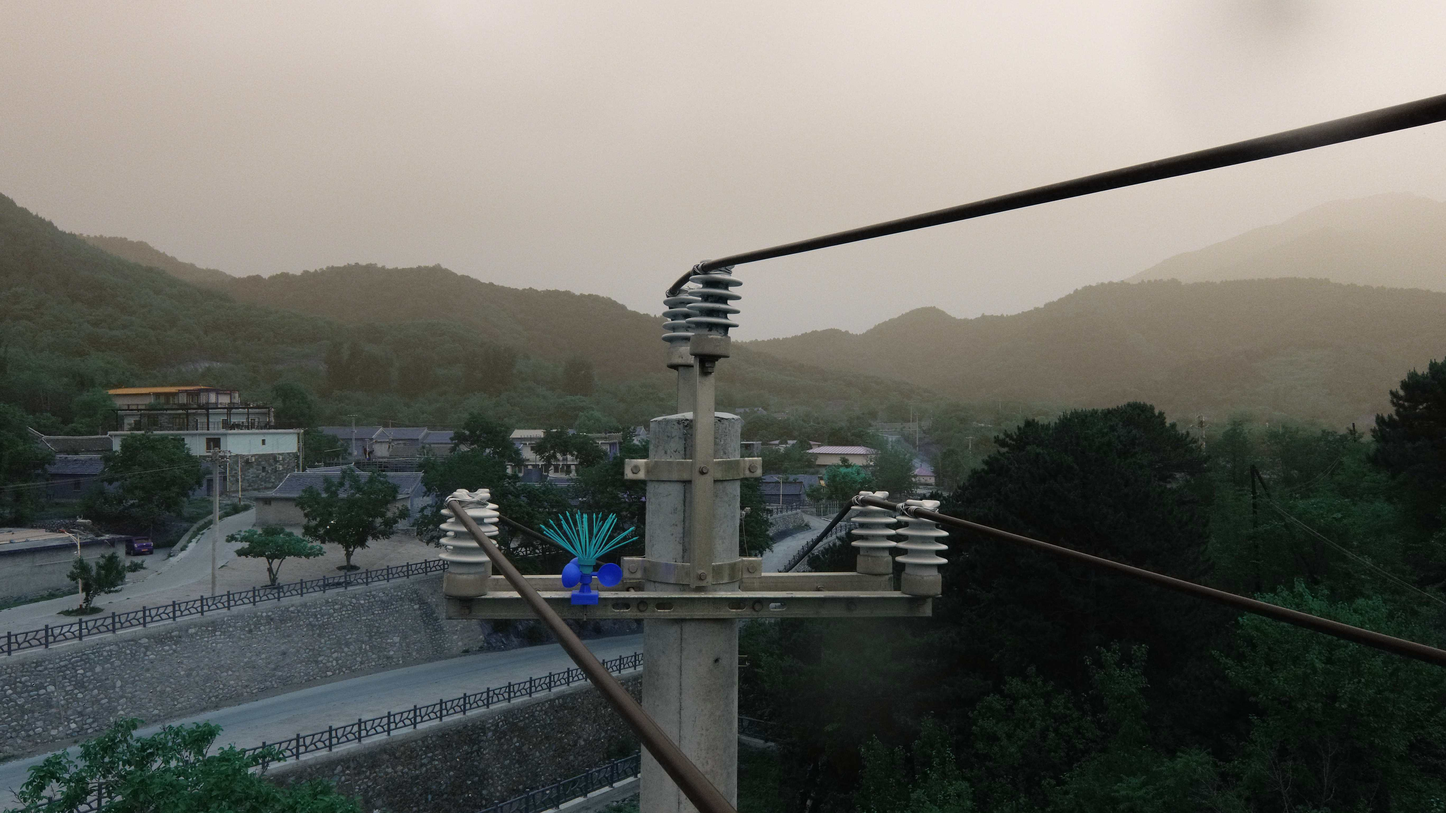severe_soiling_no_discharge_whole: (682, 259, 745, 368), (659, 281, 700, 372)
